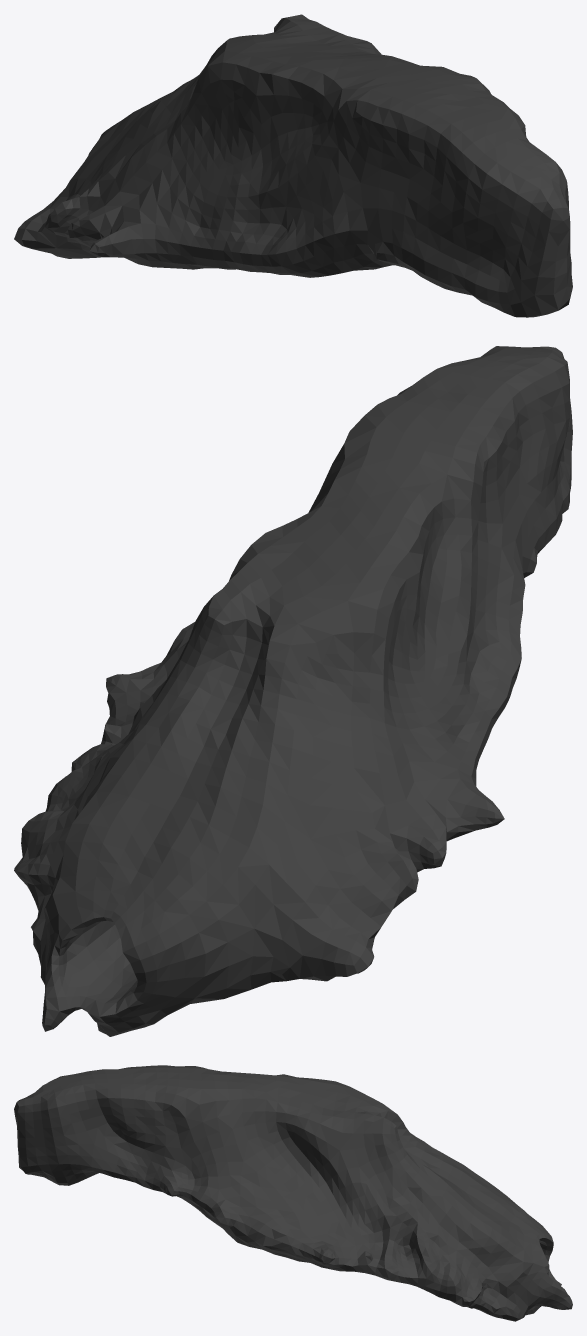
File: Interparietal.glb
3 views of the same model, one above another, from view 1: azimuth 30°, elevation 25°; view 2: azimuth 150°, elevation 25°; view 3: azimuth 270°, elevation 25° (orthographic). The views are drawn at different scales.
Parts seen in each view (by area): view 1: Interparietal; view 2: Interparietal; view 3: Interparietal.
Part boxes in pixels (x1,y1,x2,y2): Interparietal: (14,14,572,317); Interparietal: (14,346,572,1036); Interparietal: (14,1065,572,1321).
Bounding box in the file's own units: 87.51 × 80.68 × 174.
Materials: 1 (1 with a texture image).
